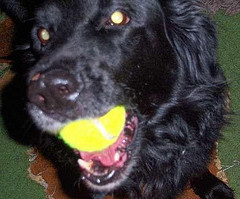tennis ball: (59, 104, 128, 152)
